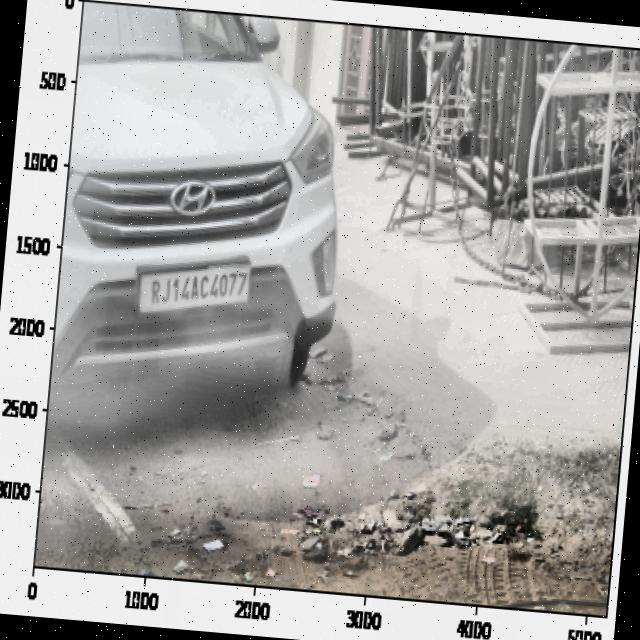license_plate: (147, 256, 250, 316)
